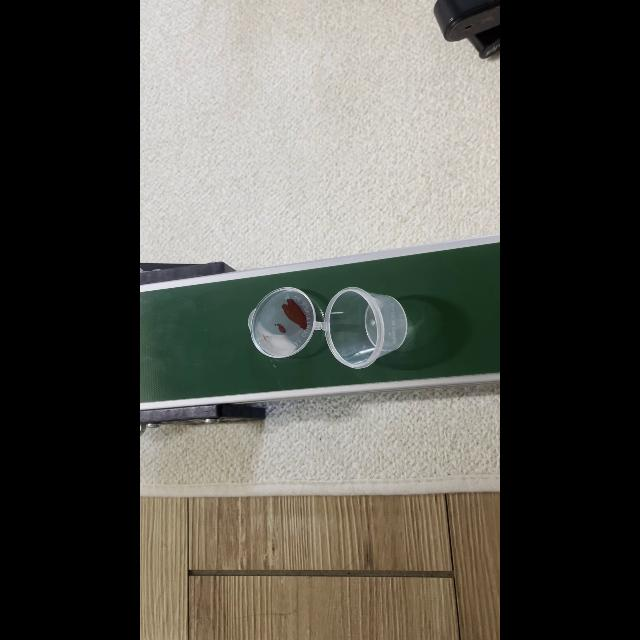dirty: (248, 285, 408, 369)
